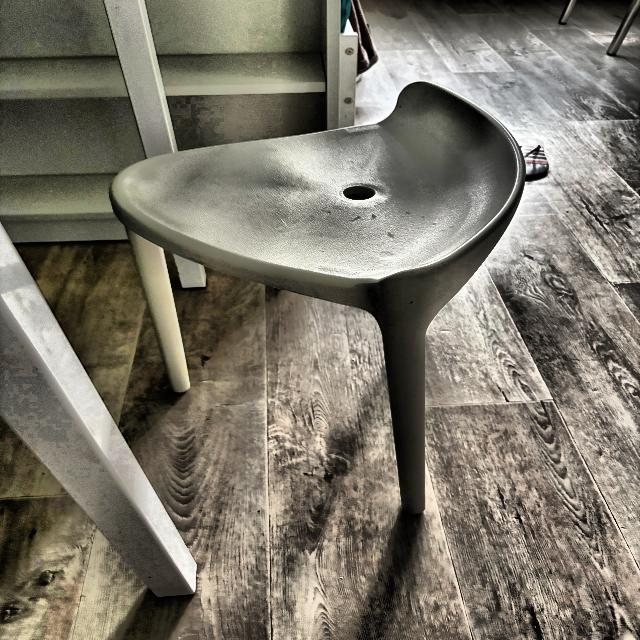cadeira: (102, 71, 525, 496)
